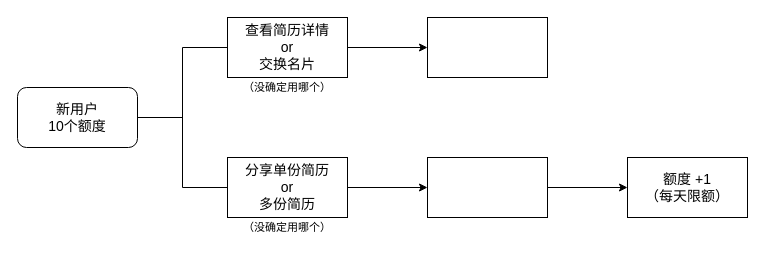
The diagram is 765 pixels wide and 255 high, and some of its shapes have lost their labels. The centre of each missing label's shape, as x and y in pixels:
有人查看: [487,187]
额度 -1: [487,47]
